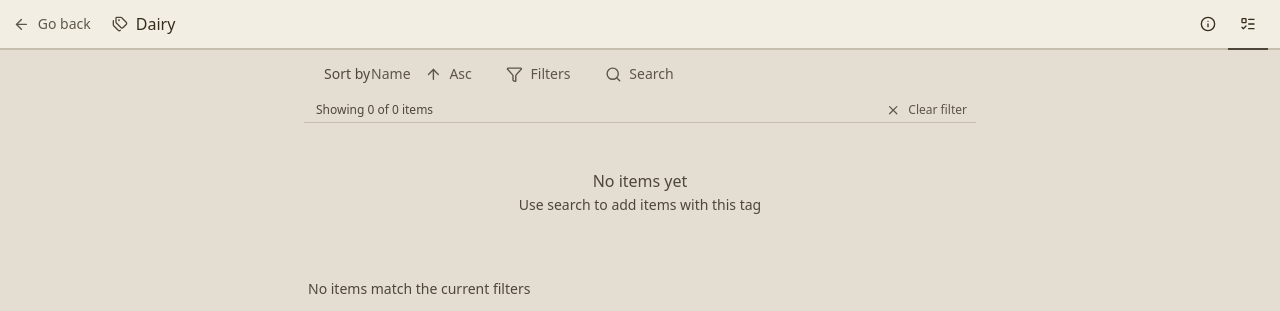
it: Tag Detail - Items Tab › user can search all items even when vendor filter is active
// And searches for "Eggs" (Eggs not assigned to vendor)
Click the button with aria-label "toggle search": [639, 74] box x1=592 y1=58 x2=687 y2=90
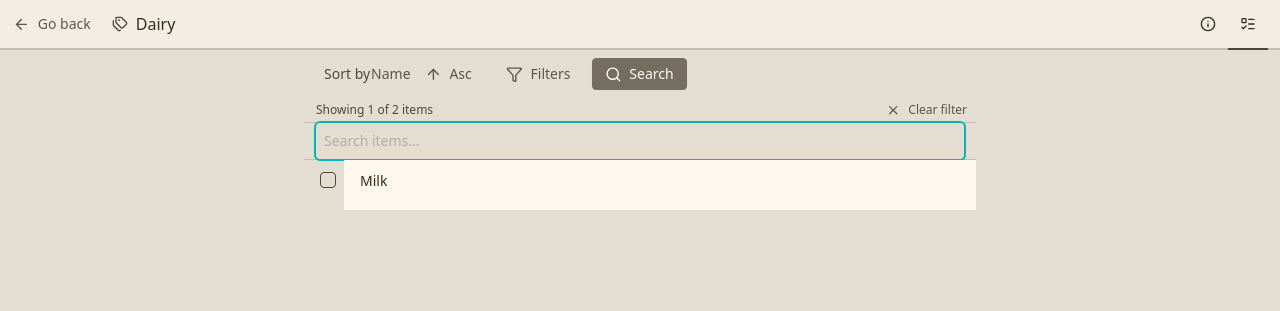
Expected: the field with placeholder "Search items..." is shown
In the field with placeholder "Search items...": [640, 141] box x1=316 y1=123 x2=964 y2=159, type "Eggs"
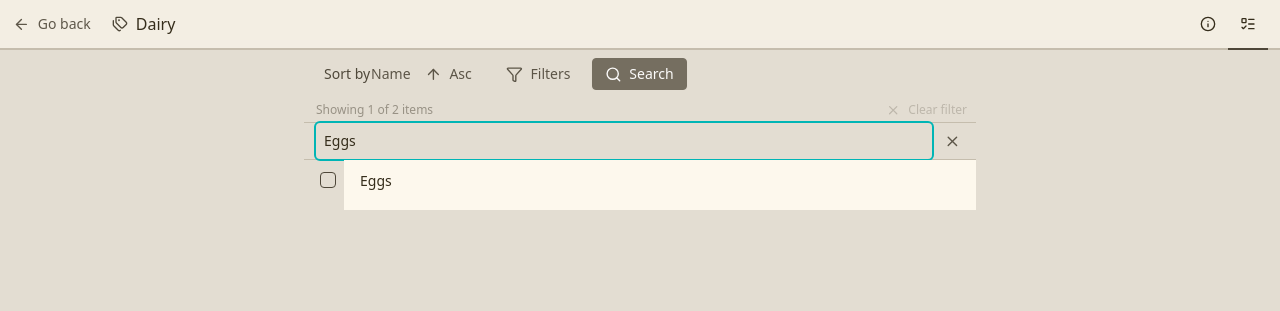
Expected: the heading "Eggs" is shown, x1=360 y1=172 x2=392 y2=190
